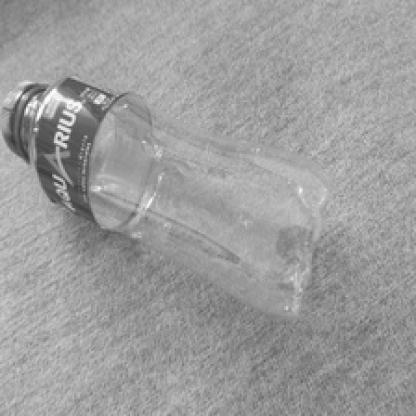plastic_bottles: (0, 66, 330, 320)
